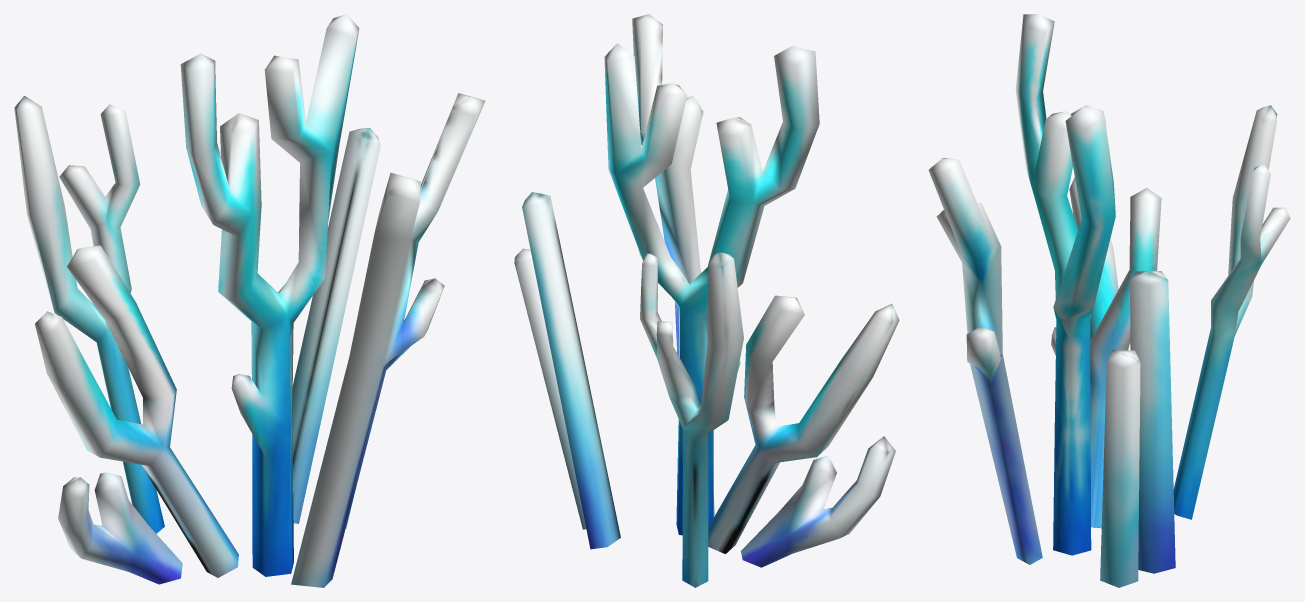
File: Sea_shanhu05.FBX
3 views of the same model, side by side, from view 1: azimuth 30°, elevation 25°; view 2: azimuth 150°, elevation 25°; view 3: azimuth 270°, elevation 25° (orthographic). The views are drawn at different scales.
Visible parts, largest first — view 1: Object12; view 2: Object12; view 3: Object12.
Part boxes in pixels (x1,y1,x2,y2): Object12: (14,14,485,587); Object12: (514,14,899,587); Object12: (928,14,1290,587).
Bounding box in the file's own units: 41.64 × 54.72 × 36.16.
